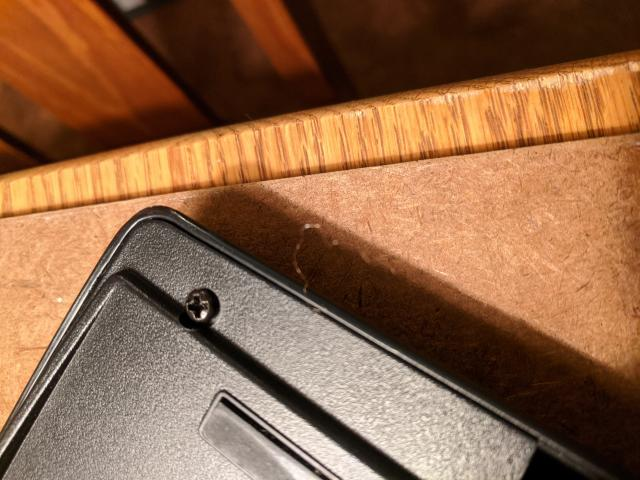CRS: (184, 289, 216, 324)
